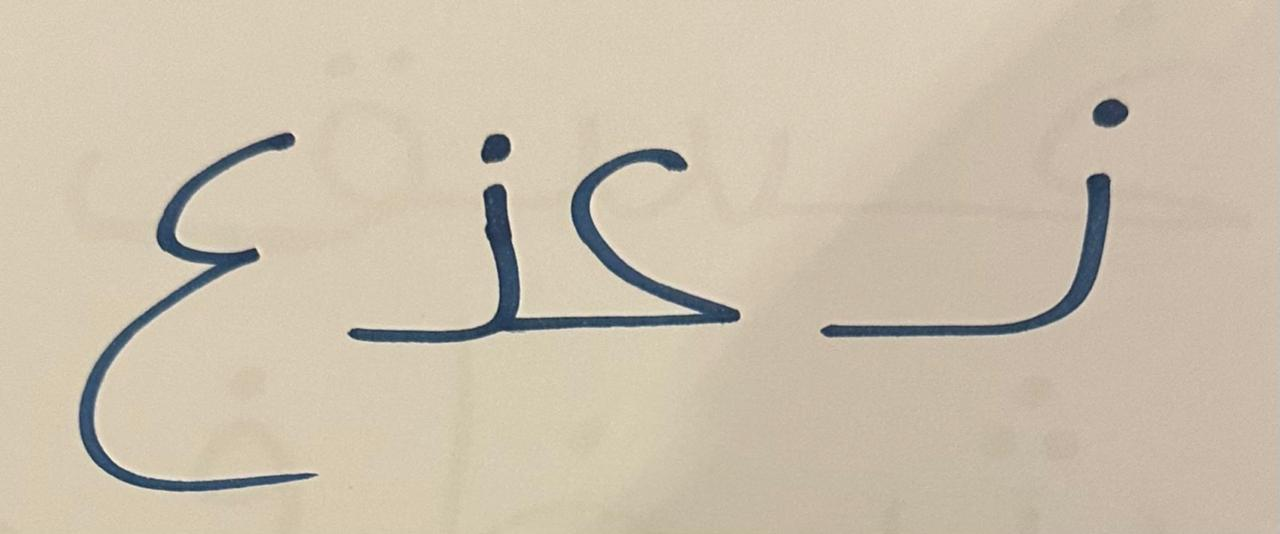ain: (51, 39, 326, 507)
khah: (531, 32, 766, 403)
qaf: (772, 23, 1191, 411), (331, 66, 527, 377)
